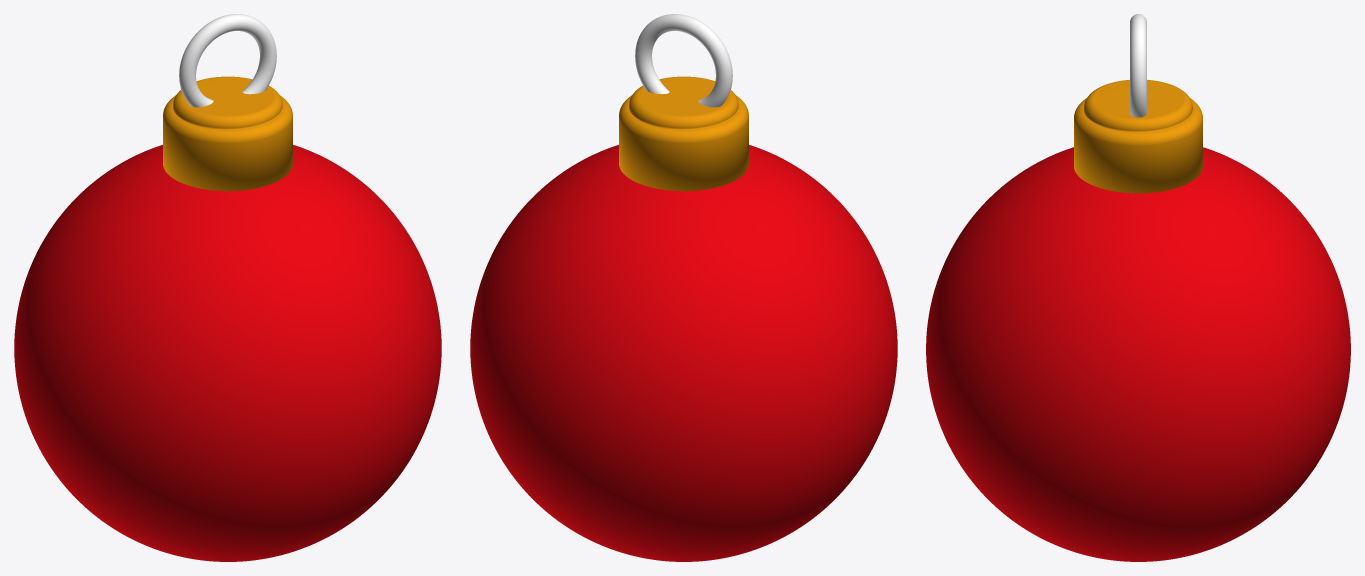
The model's file is xmas_toy.glb.
The picture shows the model from 3 angles, left to right: view 1: azimuth 30°, elevation 25°; view 2: azimuth 150°, elevation 25°; view 3: azimuth 270°, elevation 25°; orthographic projection.
Visible parts, largest first — view 1: Torus.001; view 2: Torus.001; view 3: Torus.001.
Boxes of the visible parts, x1=… form: Torus.001: x1=14, y1=14, x2=441, y2=561; Torus.001: x1=470, y1=14, x2=897, y2=561; Torus.001: x1=926, y1=14, x2=1350, y2=561.
Bounding box in the file's own units: 4.27 × 5.8 × 4.27.
